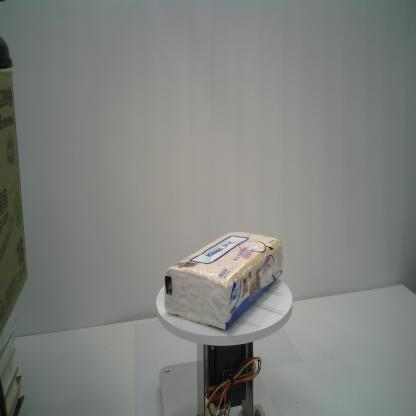Tissue: (162, 230, 285, 334)
